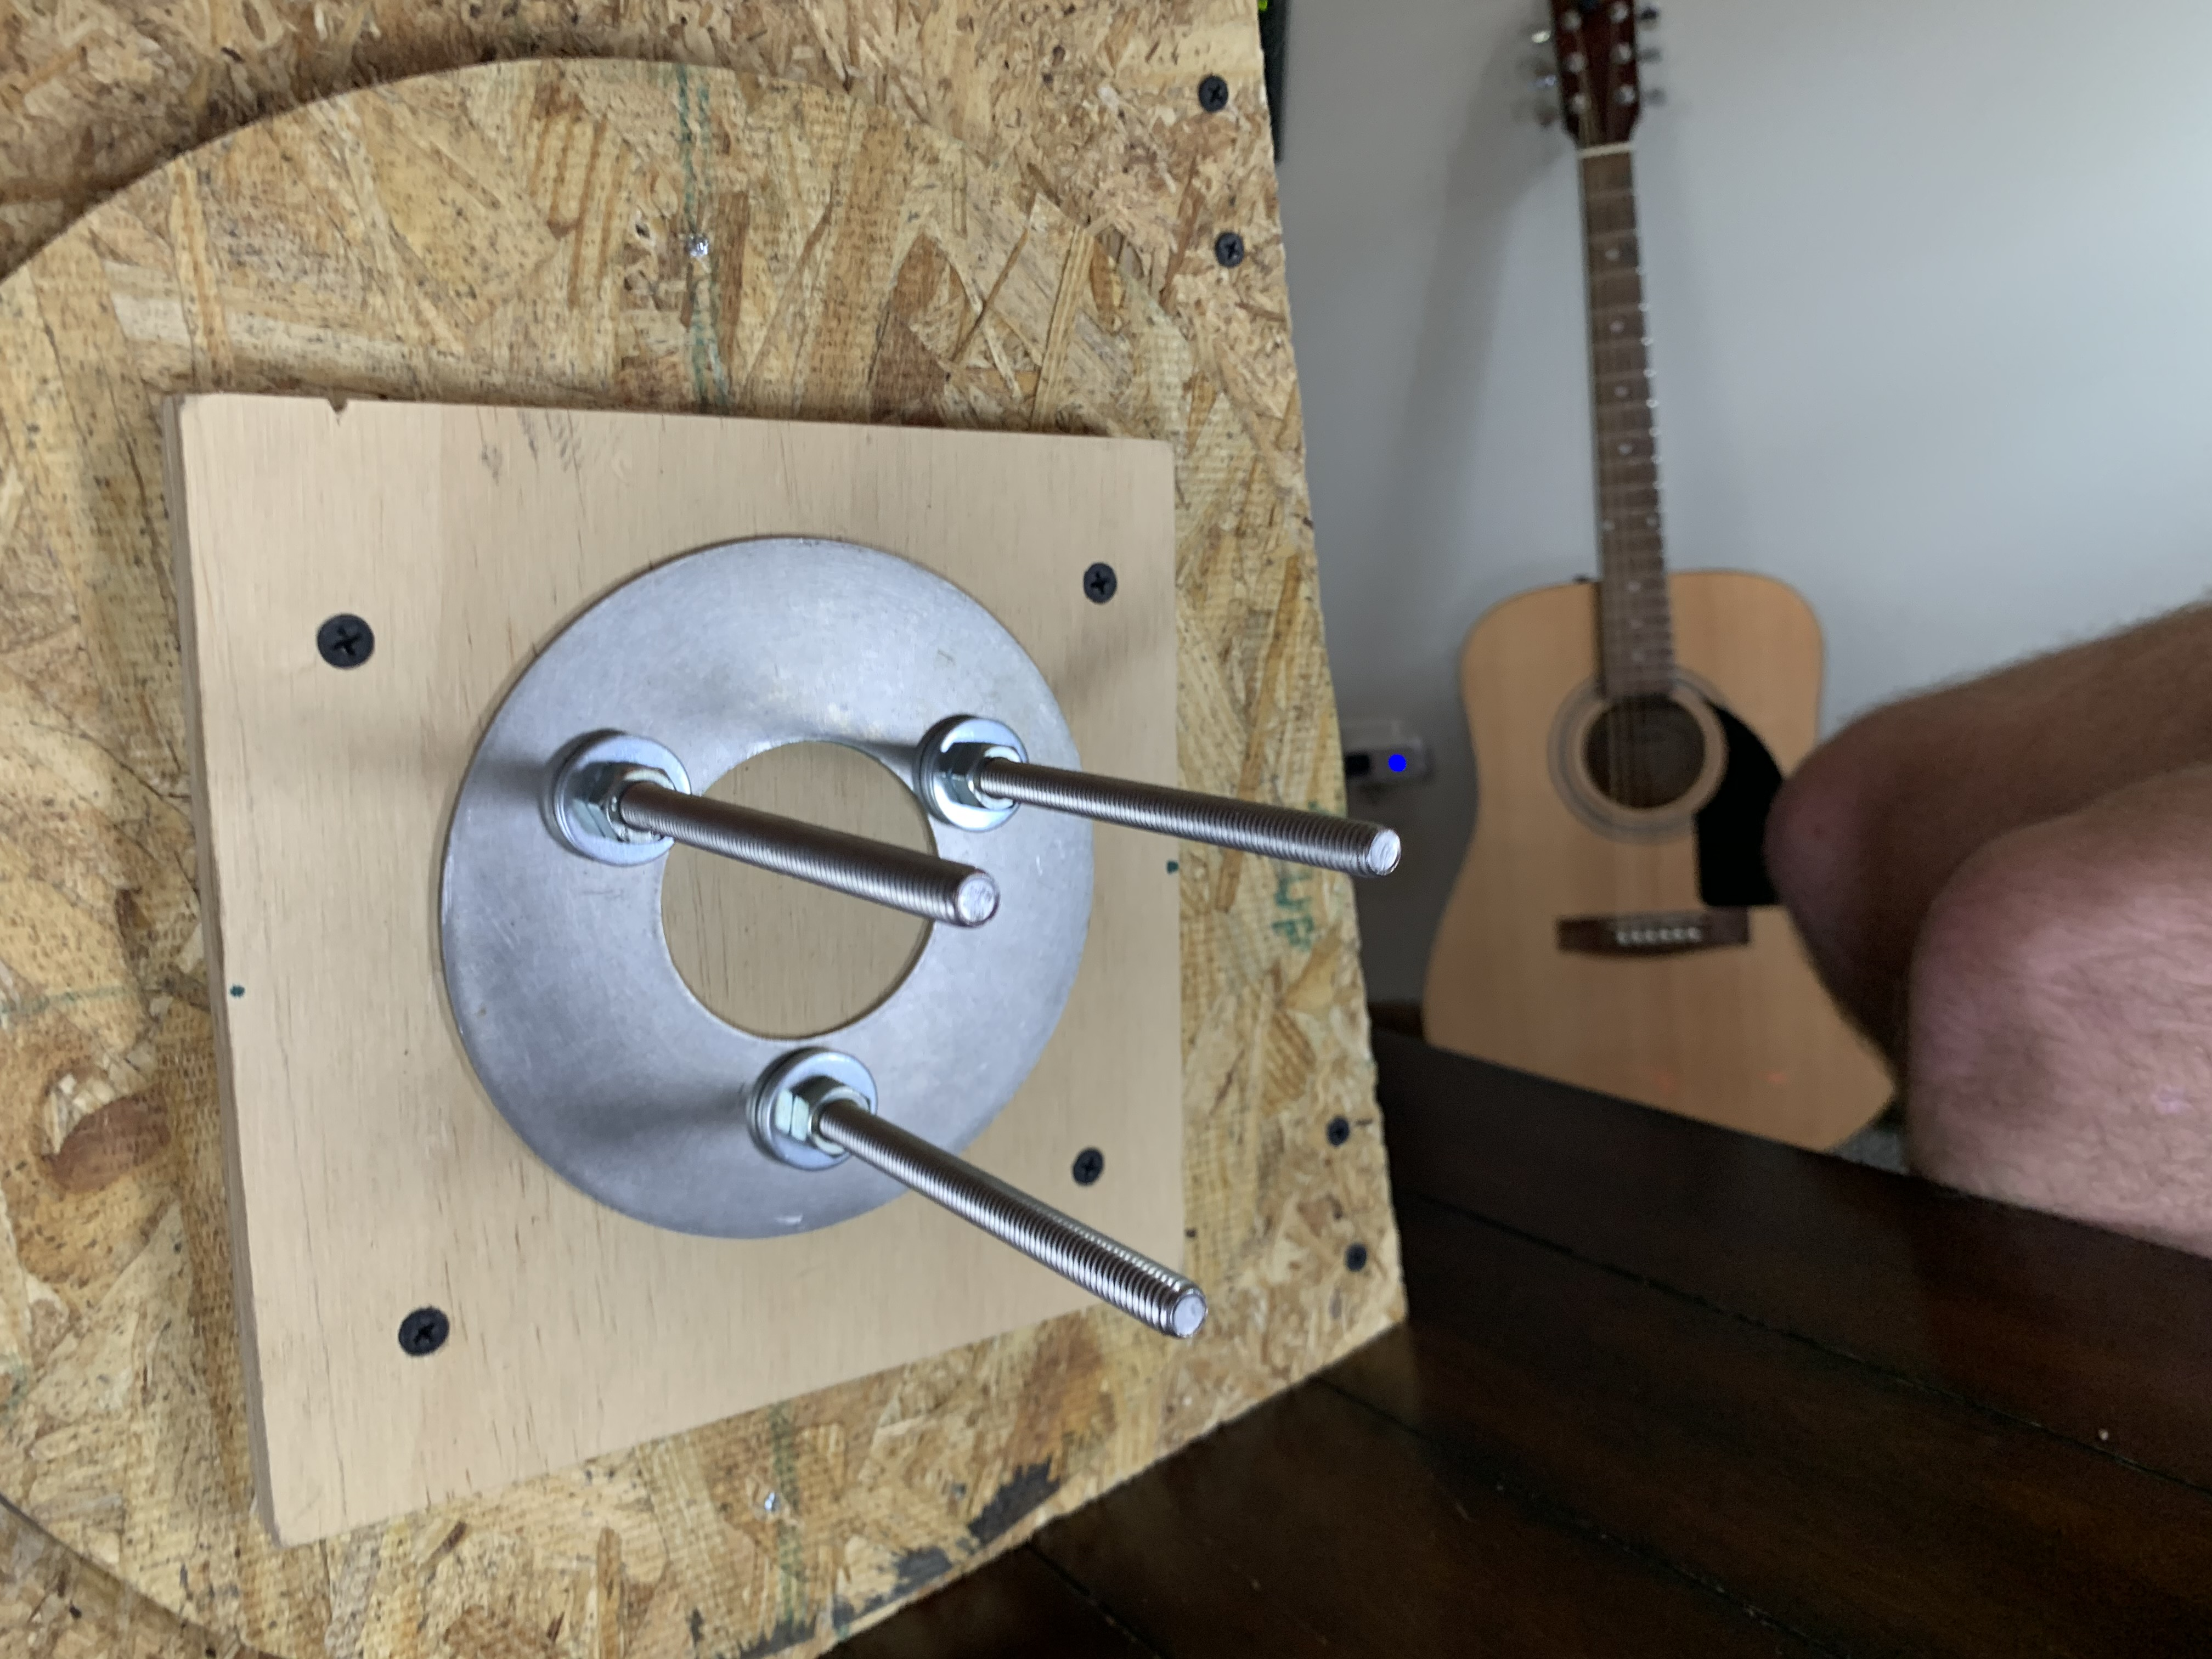bolt: (552, 732, 690, 870), (745, 1044, 878, 1175), (913, 716, 1024, 830)
